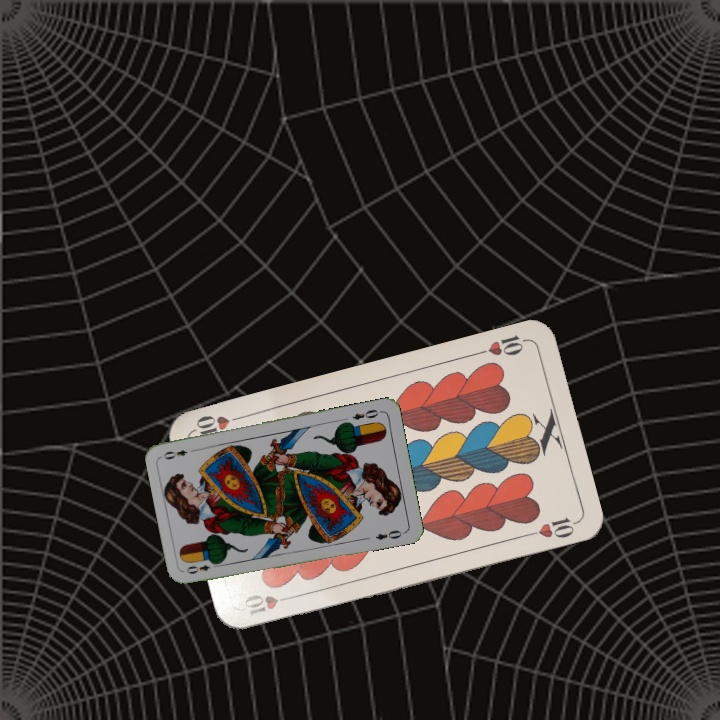EO: (182, 558, 222, 577), (348, 405, 381, 422)
H10: (472, 330, 530, 358), (240, 591, 298, 618)
